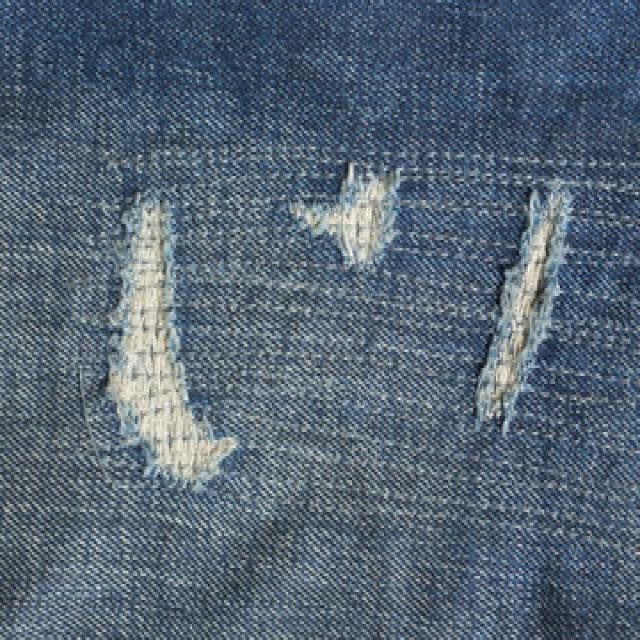Hole: (106, 193, 237, 486), (477, 181, 572, 434), (291, 162, 401, 268)
